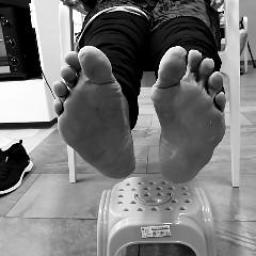Plantar View -Both Feet-: (33, 32, 242, 192)
